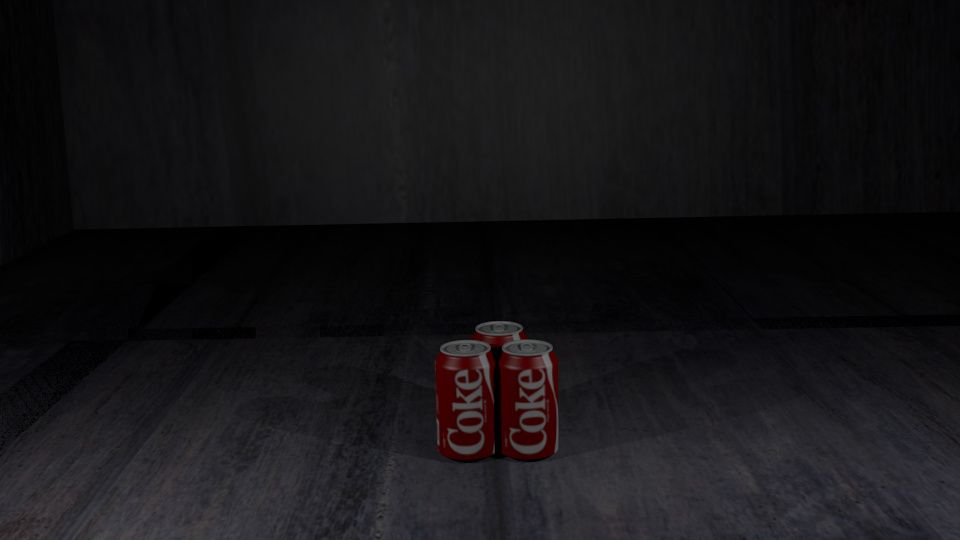cola_can: (435, 340, 496, 457), (497, 340, 557, 455), (471, 321, 527, 431)
